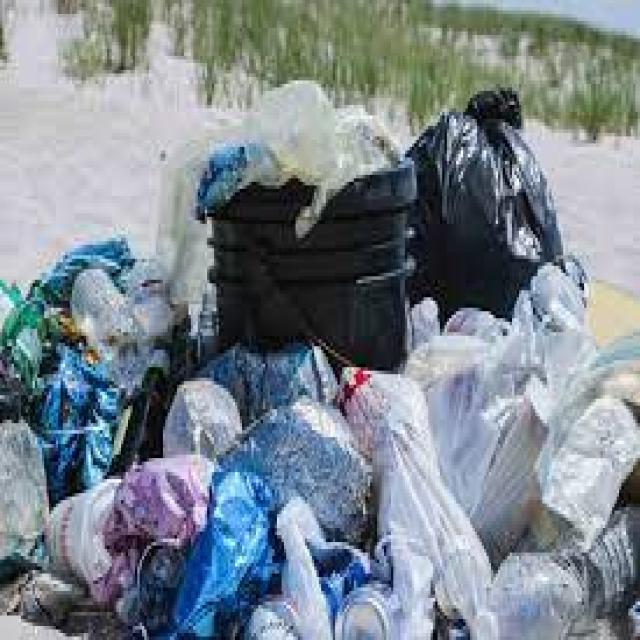trash: (19, 290, 286, 636), (230, 84, 561, 332), (328, 399, 624, 612)
